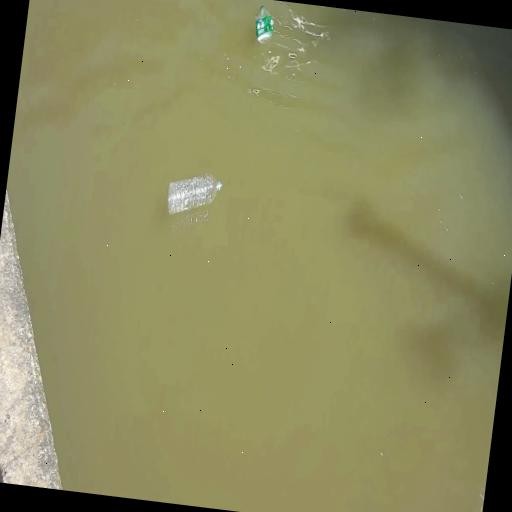plastic: (164, 168, 225, 223), (251, 4, 277, 50)
